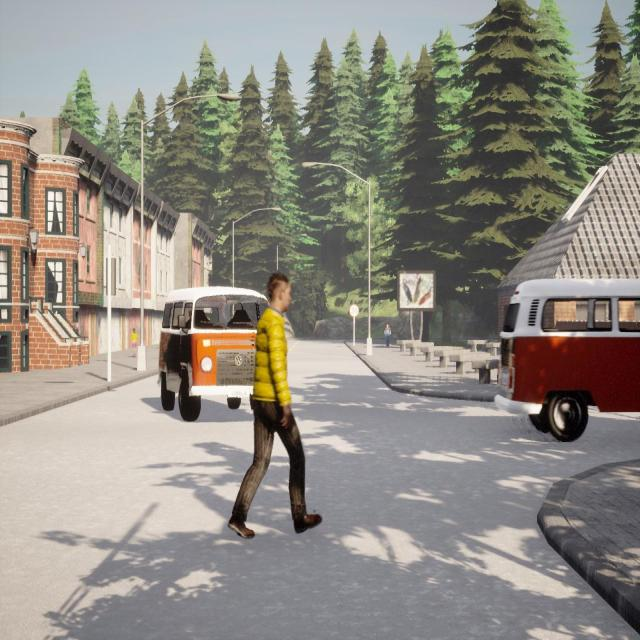Pedestrian: (228, 273, 322, 538), (130, 327, 138, 359), (384, 322, 392, 348)
Traffic_Signs: (348, 305, 359, 317)
Vehicle: (492, 280, 640, 441), (159, 286, 267, 421)
traffic_light: (106, 258, 116, 296)
